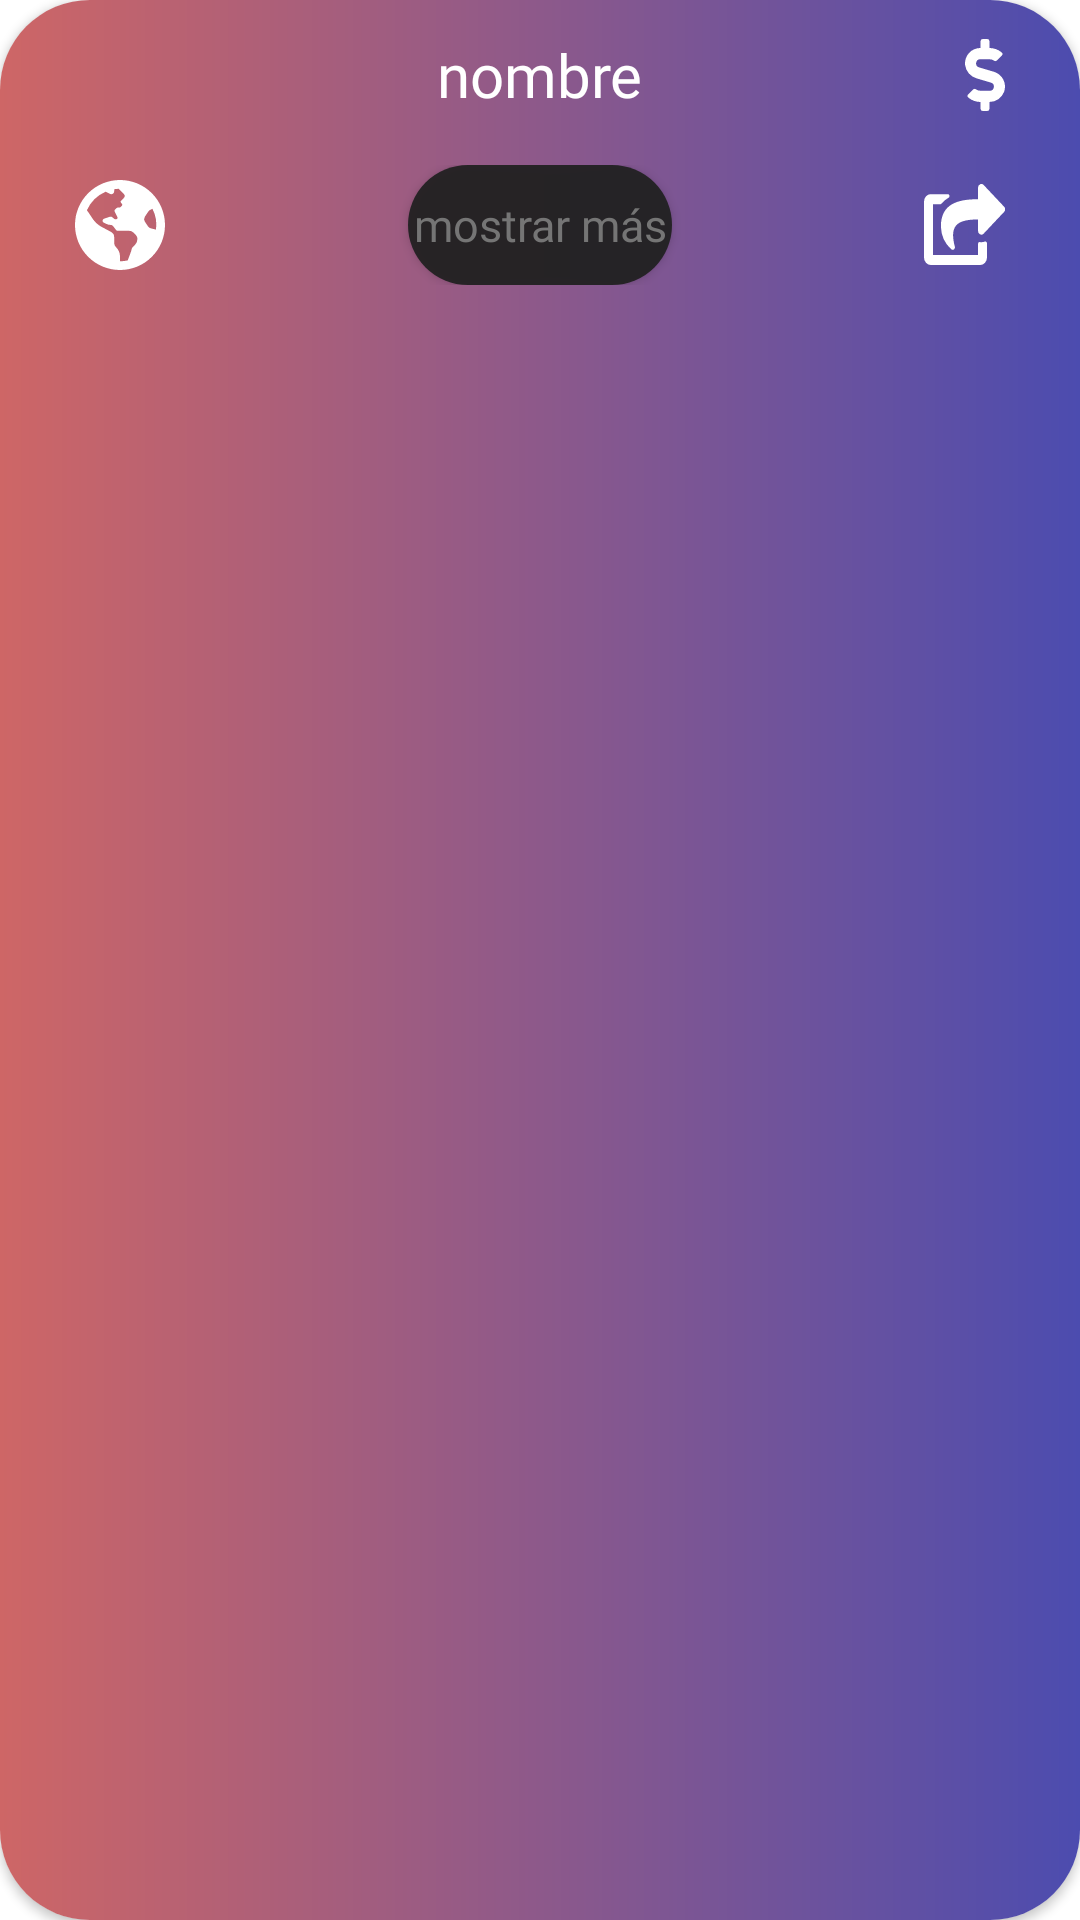

Where to tap for icons on this 1080x1920 app screen, as [x,y]:
cost: [985,75]
send: [964,224]
web: [120,225]
